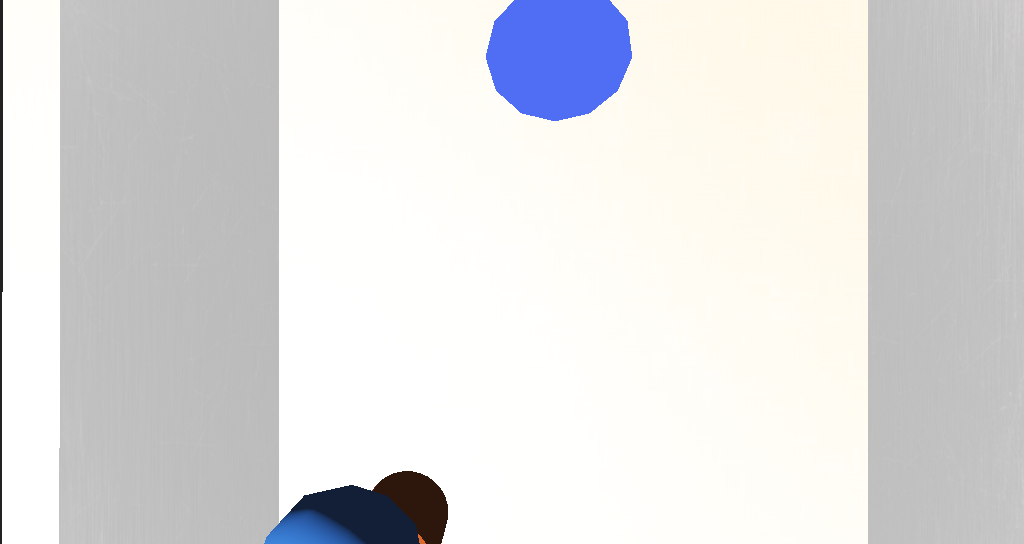cone: (384, 341, 438, 384)
cylinder: (458, 143, 525, 220)
sphere: (360, 334, 435, 382)
